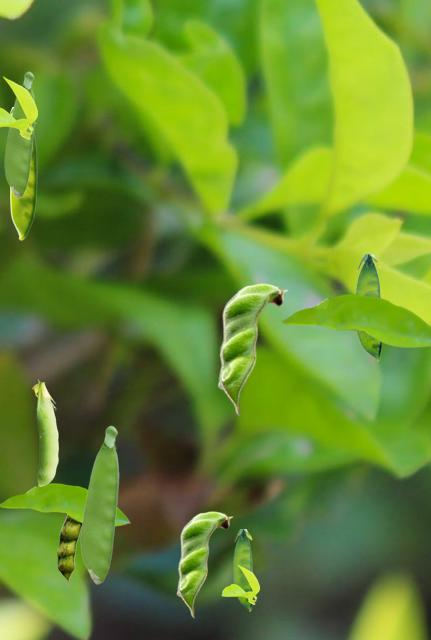pea: (217, 283, 287, 415), (80, 425, 118, 583), (176, 511, 232, 617), (4, 71, 34, 197), (10, 107, 36, 239), (355, 254, 380, 360), (32, 379, 57, 485), (57, 515, 80, 585), (233, 529, 251, 610)
